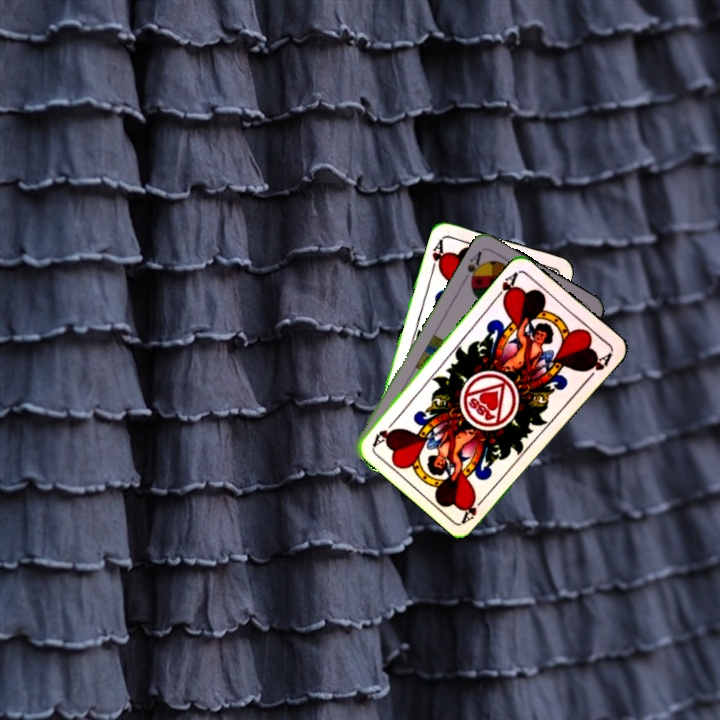HA: (491, 267, 521, 305), (458, 490, 490, 525), (427, 235, 448, 275)
SA: (460, 247, 487, 287)
